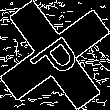P_NE: (24, 25, 86, 85)
